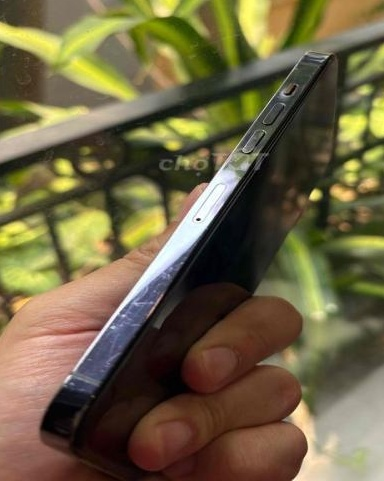scratch: (77, 297, 162, 388), (34, 389, 106, 448), (131, 249, 202, 294), (274, 49, 344, 93), (211, 139, 272, 189)
